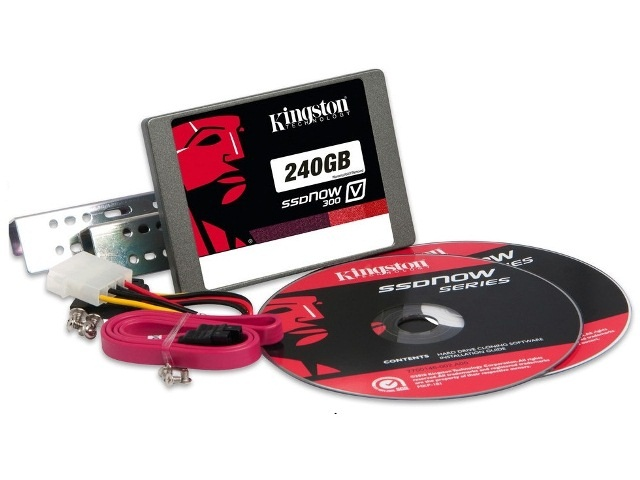Kingston: (163, 113, 261, 258), (263, 97, 357, 138), (329, 259, 441, 285)
